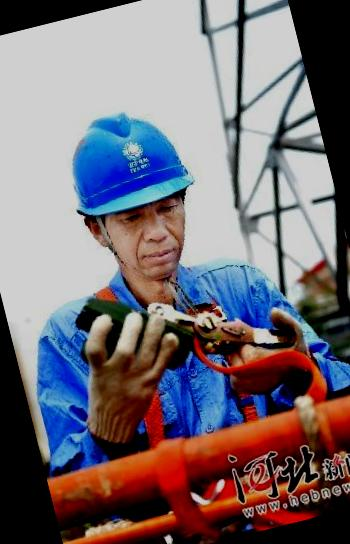helmet: (50, 96, 204, 232)
person: (4, 79, 308, 467)
